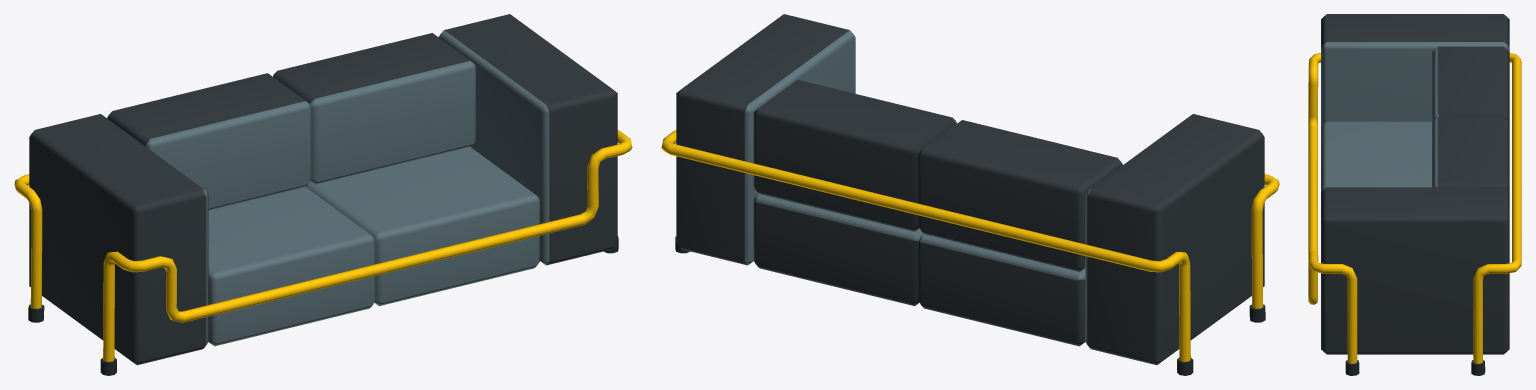
The model's file is Sofa_010.glb.
The picture shows the model from 3 angles, left to right: view 1: azimuth 30°, elevation 25°; view 2: azimuth 150°, elevation 25°; view 3: azimuth 270°, elevation 25°; orthographic projection. The views are drawn at different scales.
Parts seen in each view (by area): view 1: Sofa_010; view 2: Sofa_010; view 3: Sofa_010.
Part boxes in pixels (x1,y1,x2,y2): Sofa_010: (14, 14, 632, 375); Sofa_010: (661, 14, 1279, 375); Sofa_010: (1308, 14, 1521, 375).
Bounding box in the file's own units: 2.59 × 0.8424 × 1.07.
Materials: 1 (1 with a texture image).
